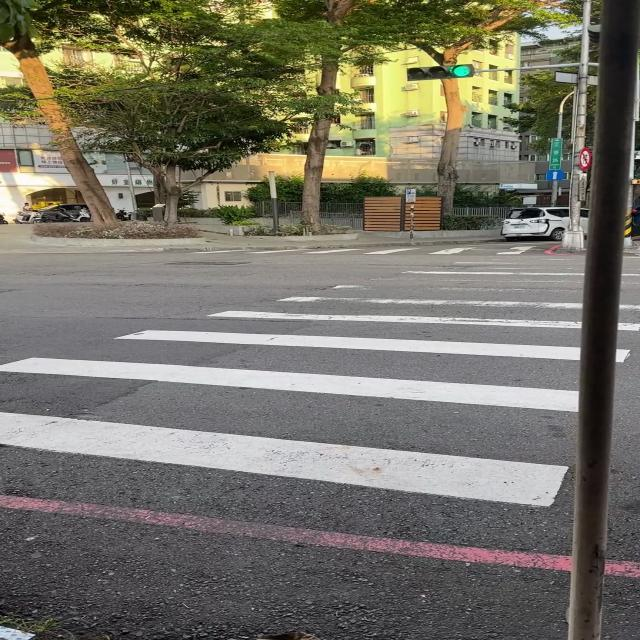car: (501, 206, 569, 240), (580, 209, 589, 232)
crosswalk: (0, 256, 587, 509), (168, 245, 538, 255), (616, 267, 640, 365)
